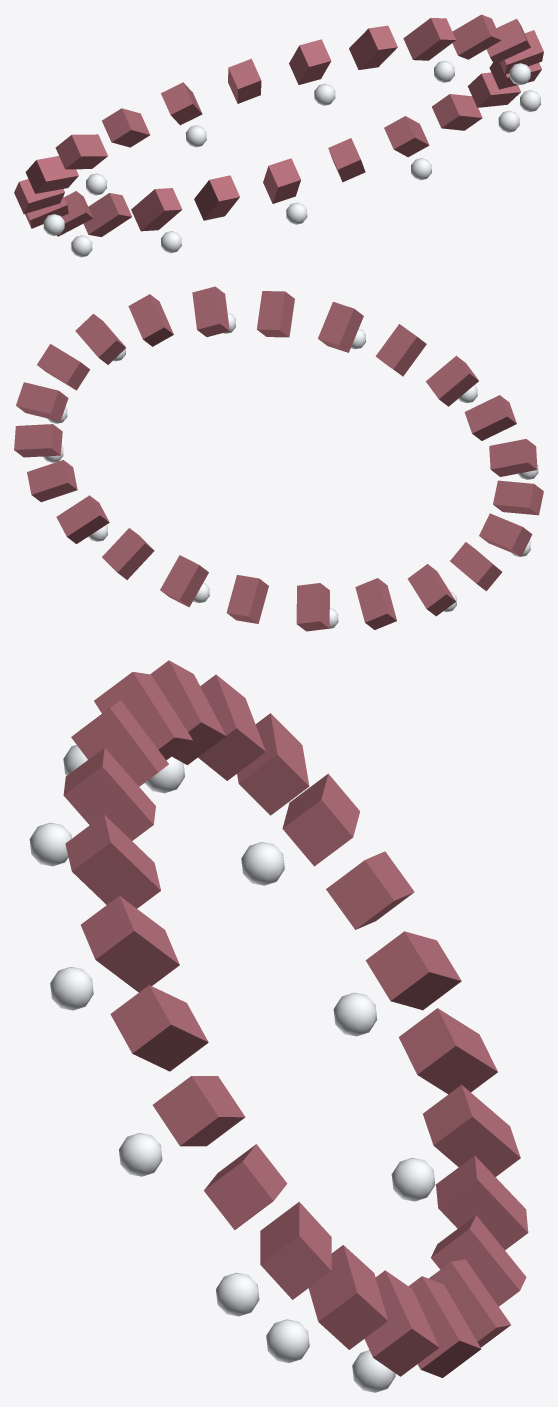
Rendered from roselle-bracelet-stack.glb.
3 renders of one model, top to bottom at view 1: azimuth 30°, elevation 25°; view 2: azimuth 150°, elevation 25°; view 3: azimuth 270°, elevation 25°, orthographic. The views are drawn at different scales.
Visible parts, largest first — view 1: bracelet_link (×23), bracelet_gem (×12); view 2: bracelet_link (×23); view 3: bracelet_link (×23), bracelet_gem (×10).
Part boxes in pixels (left/top/right/bottom): bracelet_link (×23): left=14, top=14, right=543, bottom=236; bracelet_gem (×12): left=43, top=60, right=540, bottom=257; bracelet_link (×23): left=14, top=286, right=543, bottom=631; bracelet_link (×23): left=63, top=660, right=528, bottom=1377; bracelet_gem (×10): left=29, top=756, right=435, bottom=1392.
Size of the model in its own units: 2.32 by 1.12 by 0.9881.
